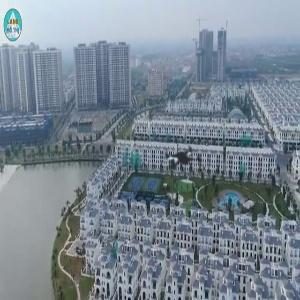drone: (147, 123, 221, 197)
